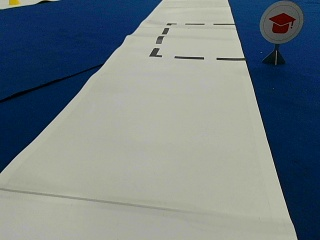school: (259, 0, 304, 44)
